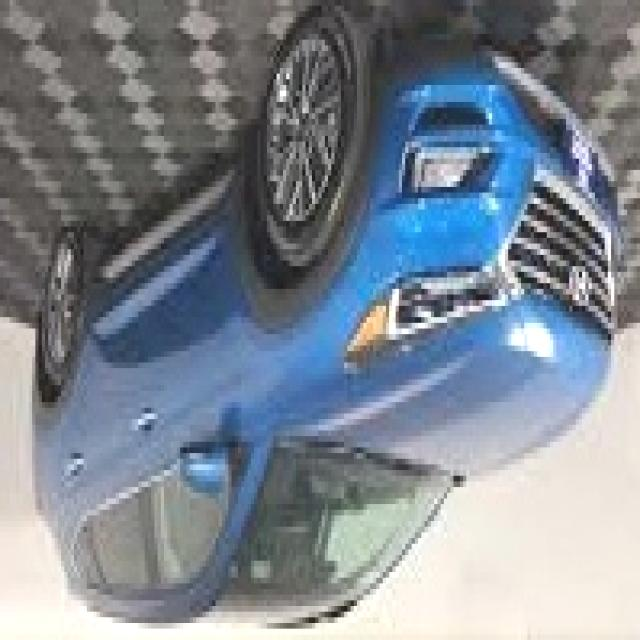blue: (36, 29, 624, 636)
